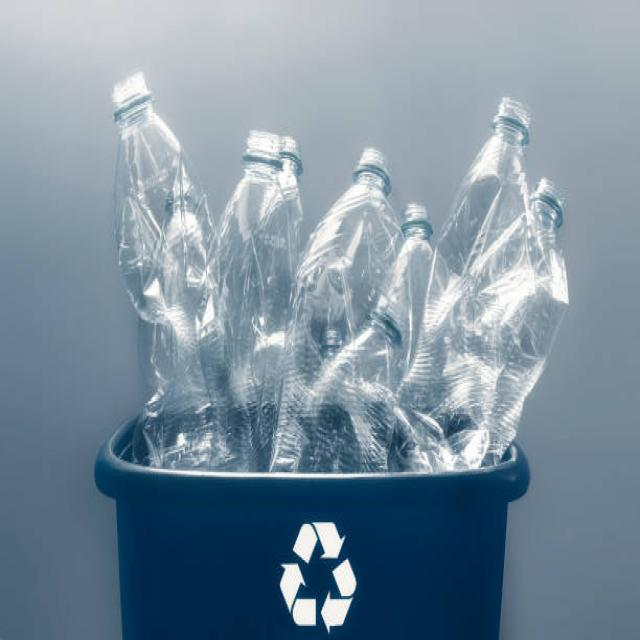plastic: (110, 56, 573, 442)
